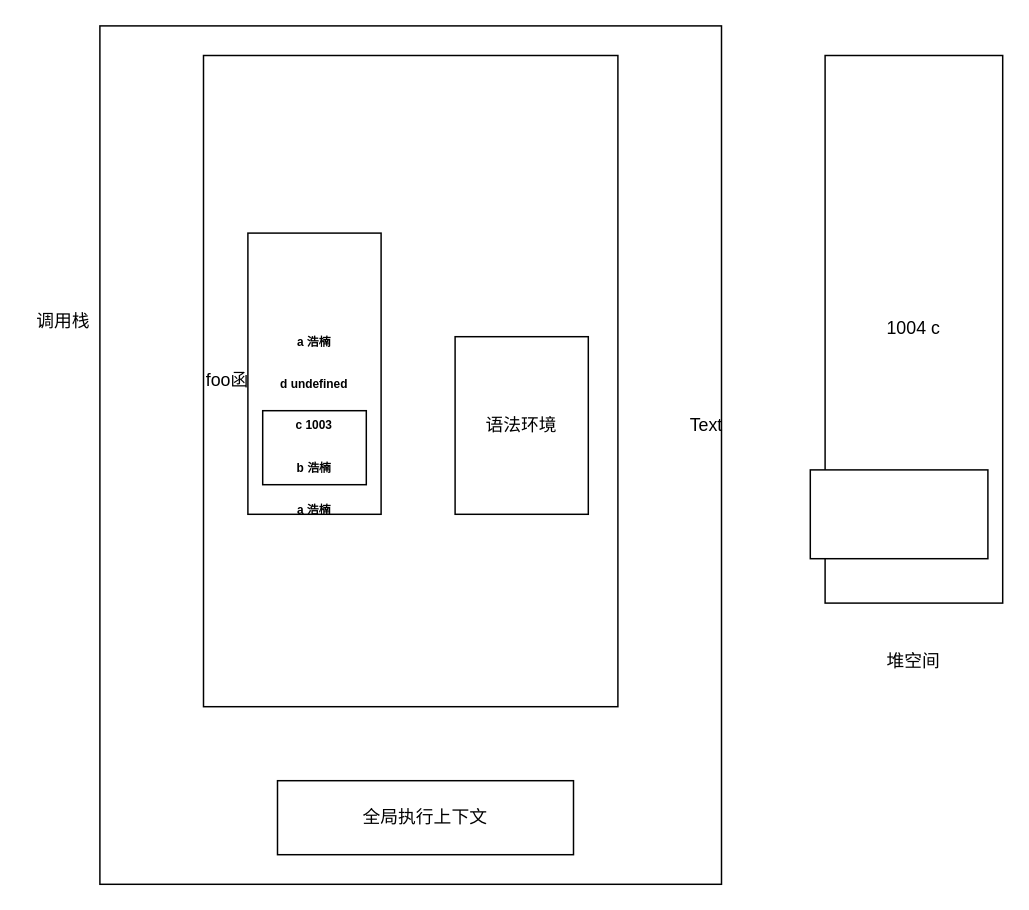
This 1029x910 diagram has some shape labels left out. The box of each missing label's shape, as (x1, y1, x2, y2) in pixels:
closure(foo): (809, 468, 988, 559)
变量环境: (246, 232, 381, 514)
